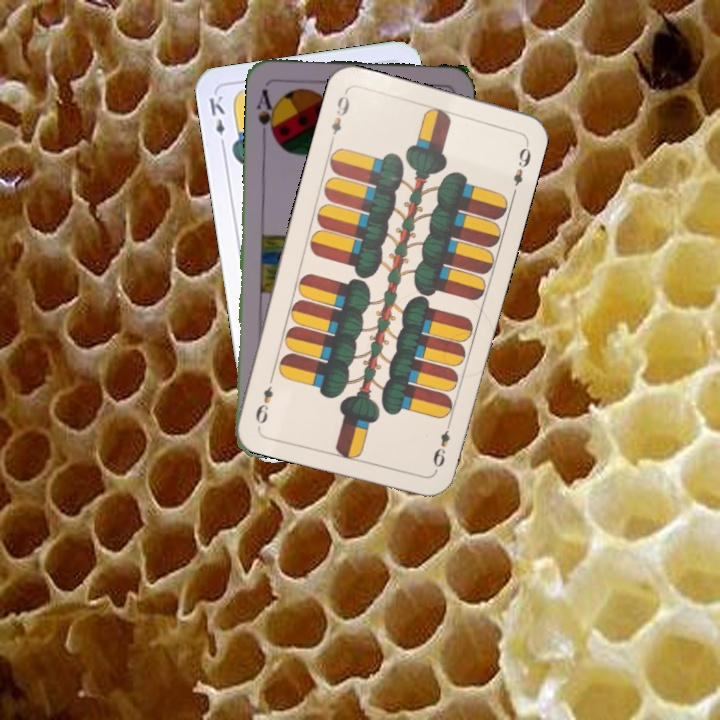E9: (326, 88, 352, 146), (429, 417, 454, 475)
EK: (205, 91, 228, 151)
SA: (252, 85, 280, 142)
